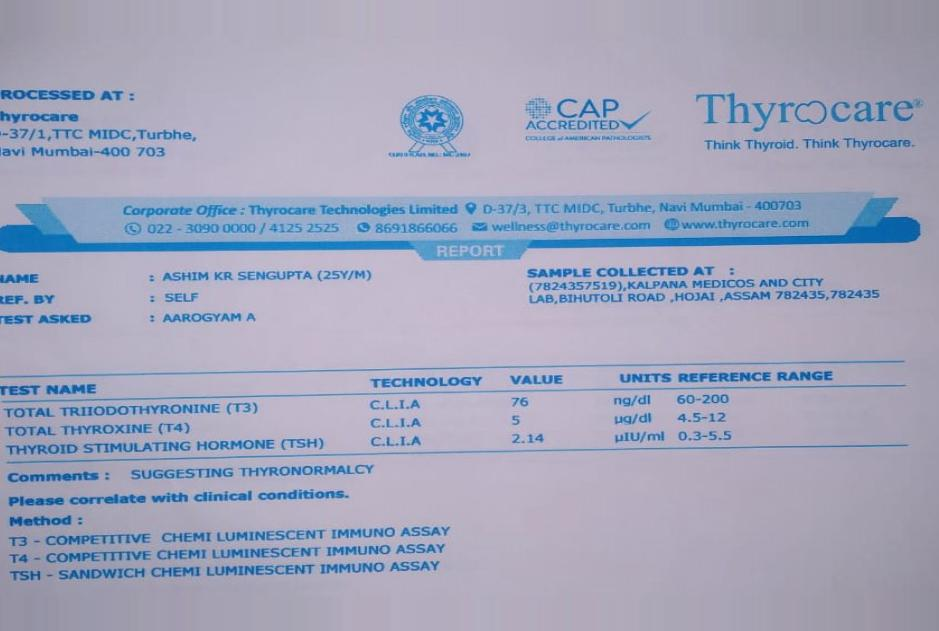Reference Range: (668, 386, 739, 449)
Test Name: (1, 396, 331, 462)
Units: (606, 388, 670, 450)
Value: (502, 390, 554, 452)
